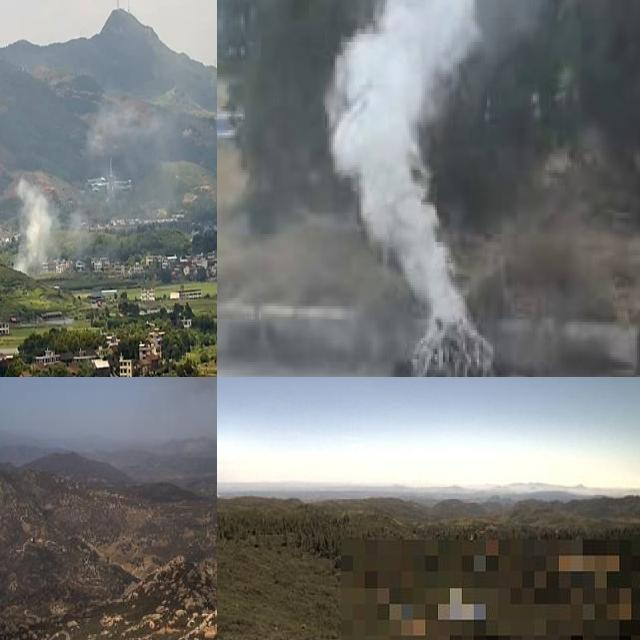smoke: (321, 0, 539, 322), (112, 377, 217, 465), (86, 104, 175, 156), (12, 178, 54, 277), (65, 211, 93, 252), (217, 476, 224, 496)
